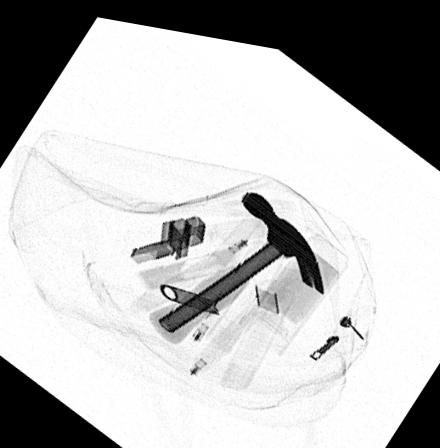Hammer: (146, 181, 323, 337)
